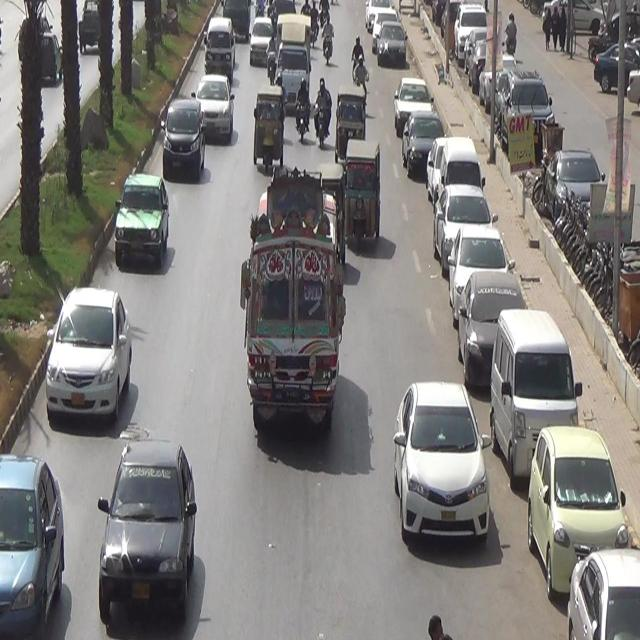car: (388, 377, 505, 576), (93, 433, 195, 624), (0, 438, 67, 630), (49, 274, 133, 415), (109, 169, 177, 265), (158, 98, 212, 183), (195, 70, 236, 138), (197, 11, 238, 72), (250, 15, 278, 64)
motorbike: (293, 79, 314, 158), (314, 74, 333, 159), (320, 16, 340, 78)
truck: (274, 13, 315, 94)
